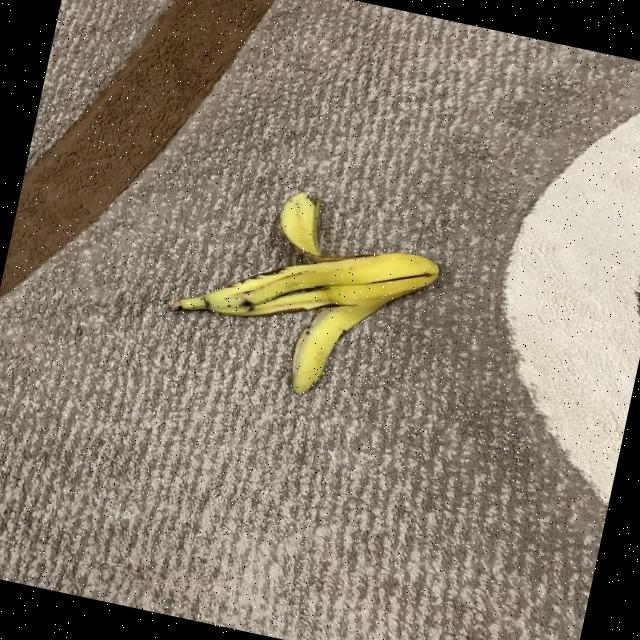banana-peel: (156, 168, 450, 417)
